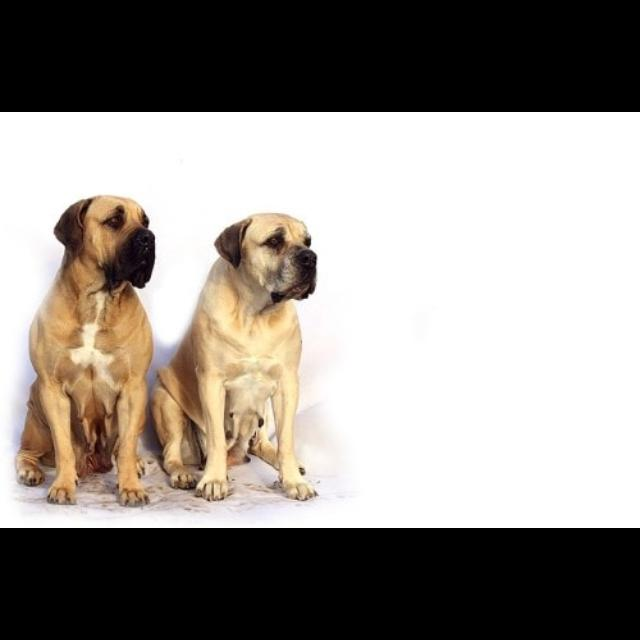mastiff: (150, 212, 320, 503), (15, 194, 157, 507)
